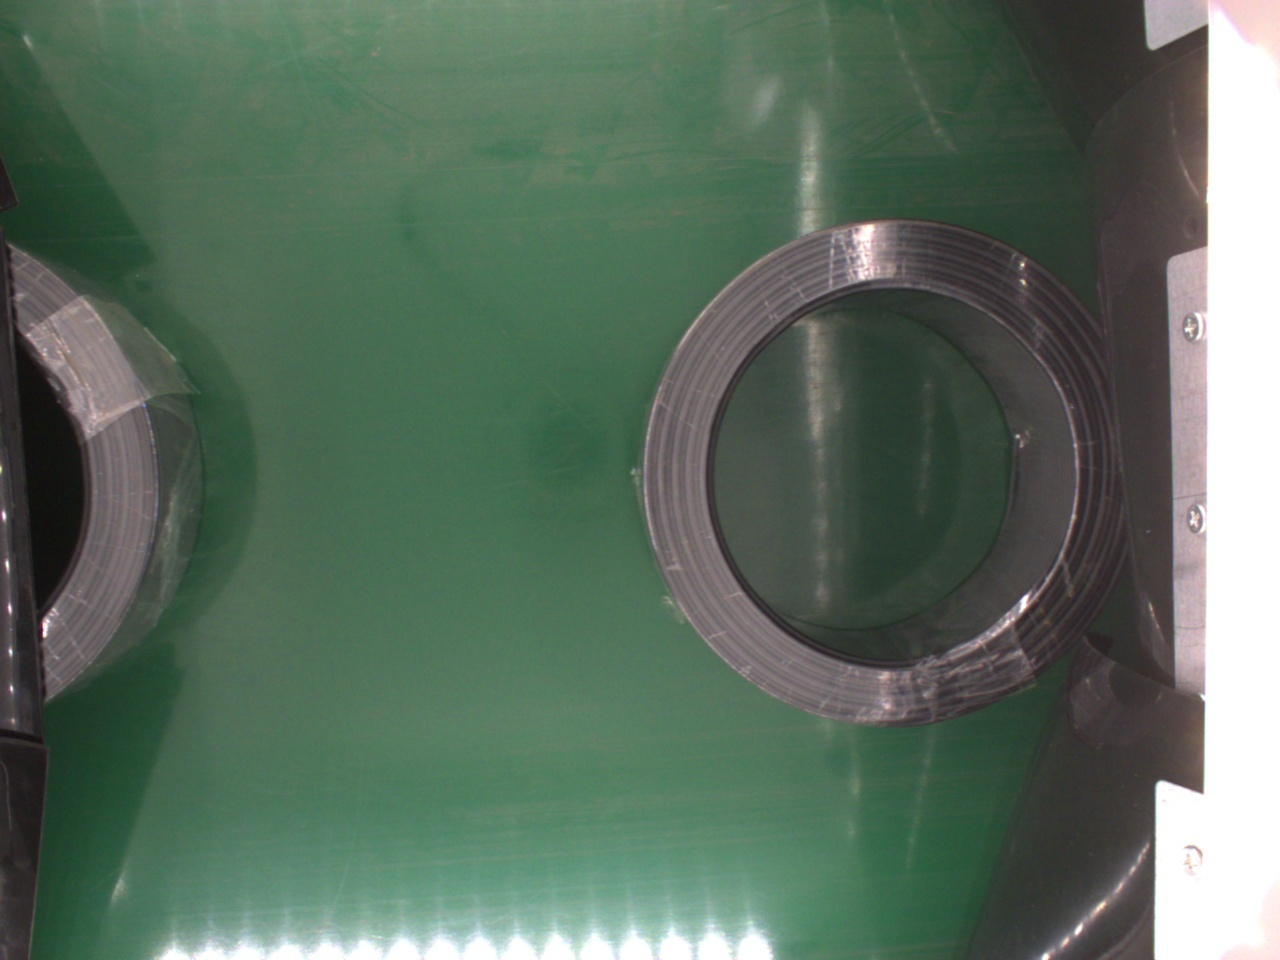black: (637, 216, 1133, 734), (8, 239, 203, 707)
